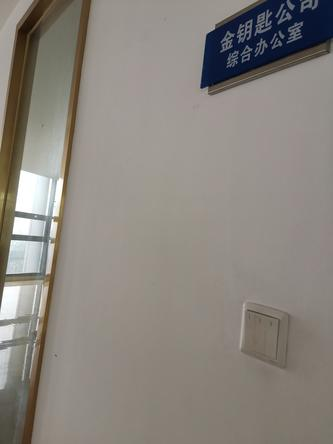switch: (266, 312, 283, 364), (252, 309, 268, 359), (241, 305, 257, 353)
